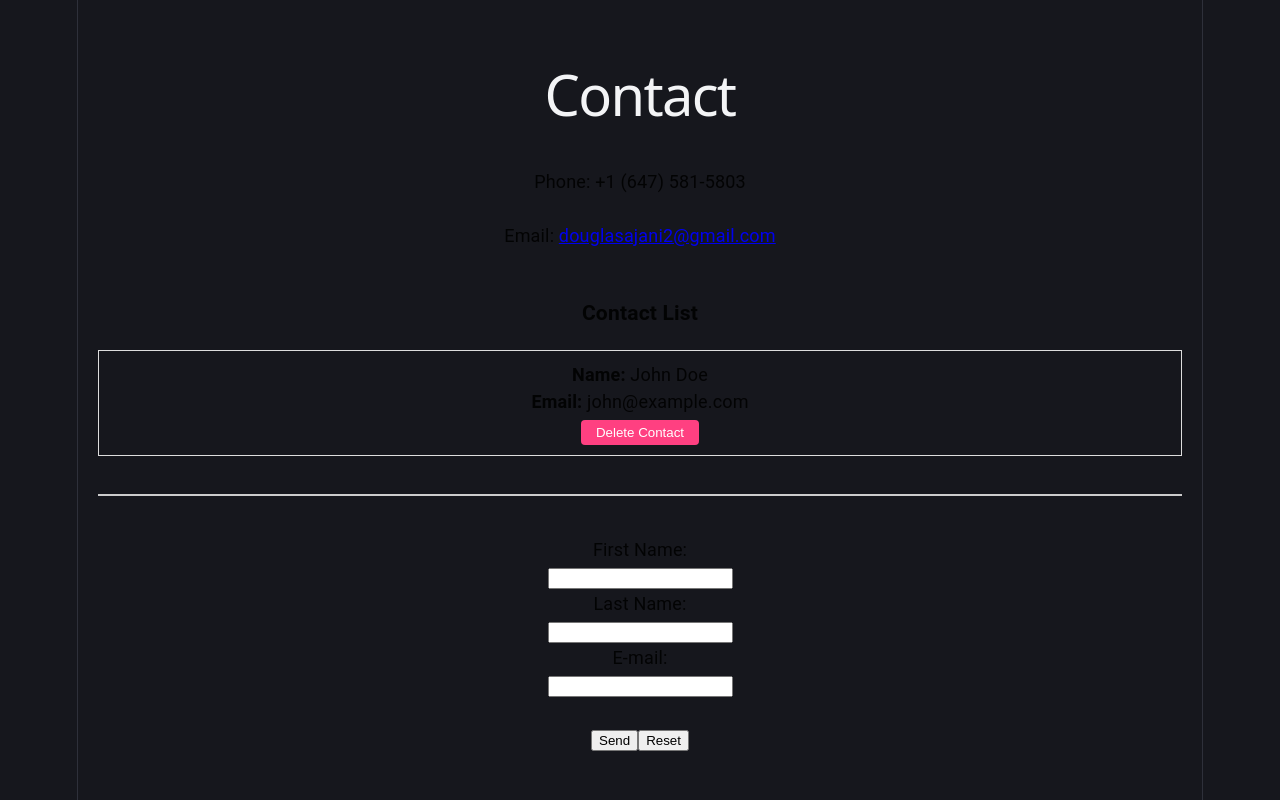
it: Contact Component › performs full CRUD flow for admin user
Expected: the text "John Doe" is shown, [572,364,708,385]
Expected: the text "john@example.com" is shown, [587,391,749,412]
Type "Jane" into the 1st field at (640, 578), box [548,568,732,589]
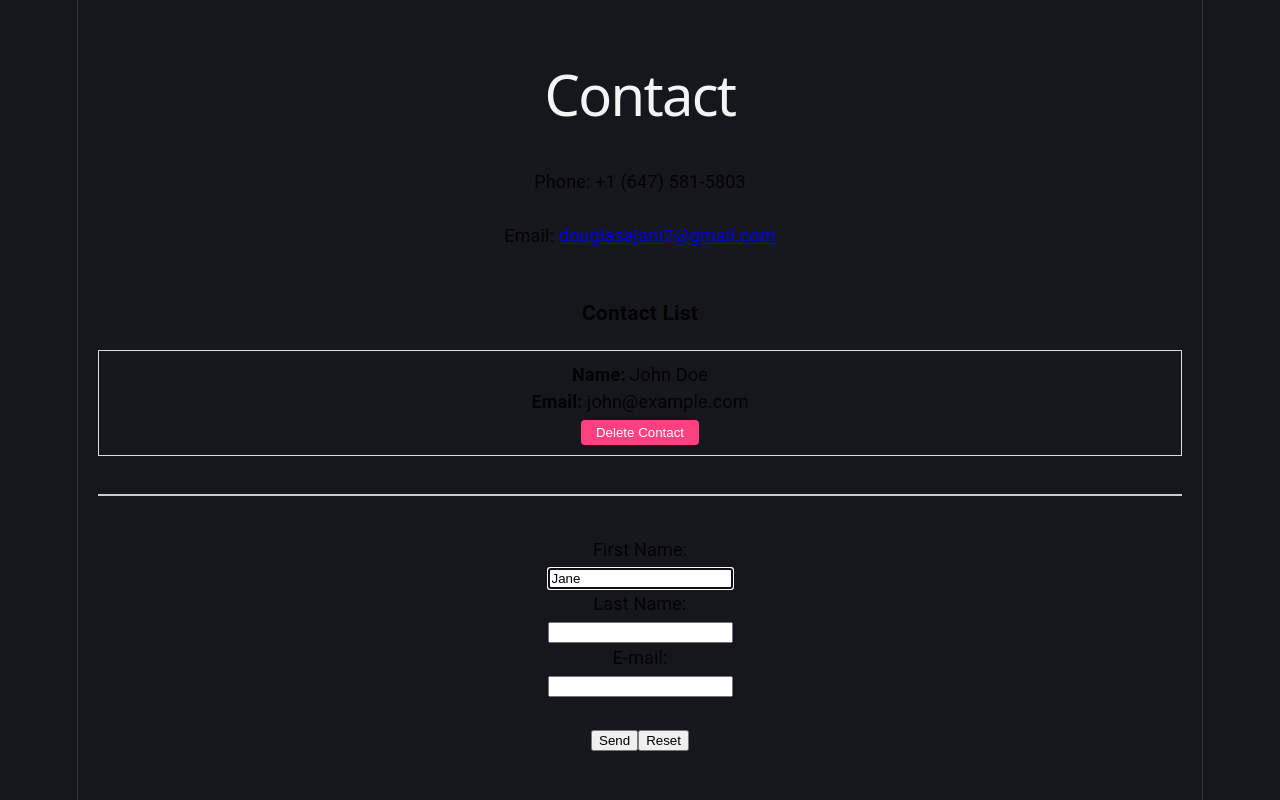
Type "Smith" into the 2nd field at (640, 632), box [548,622,732,643]
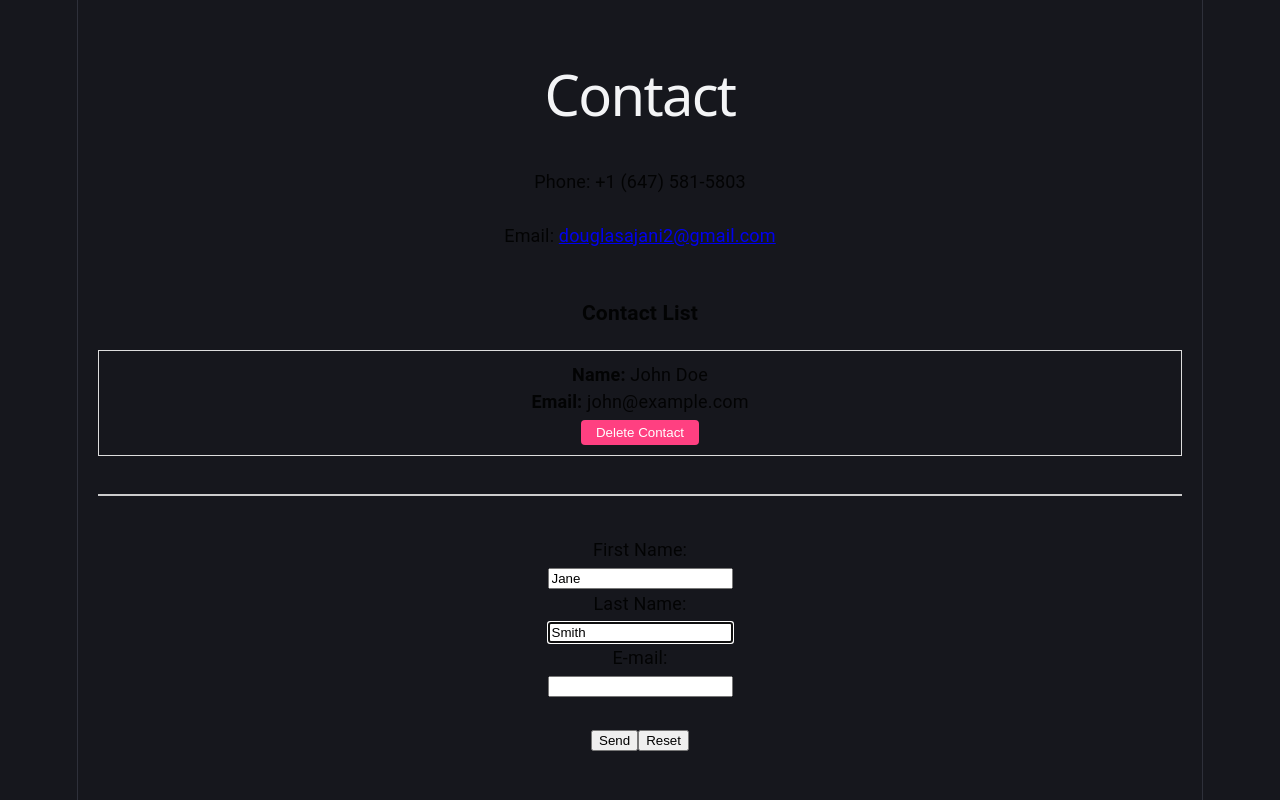
Type "jane@example.com" into the 3rd field at (640, 686), box [548,676,732,697]
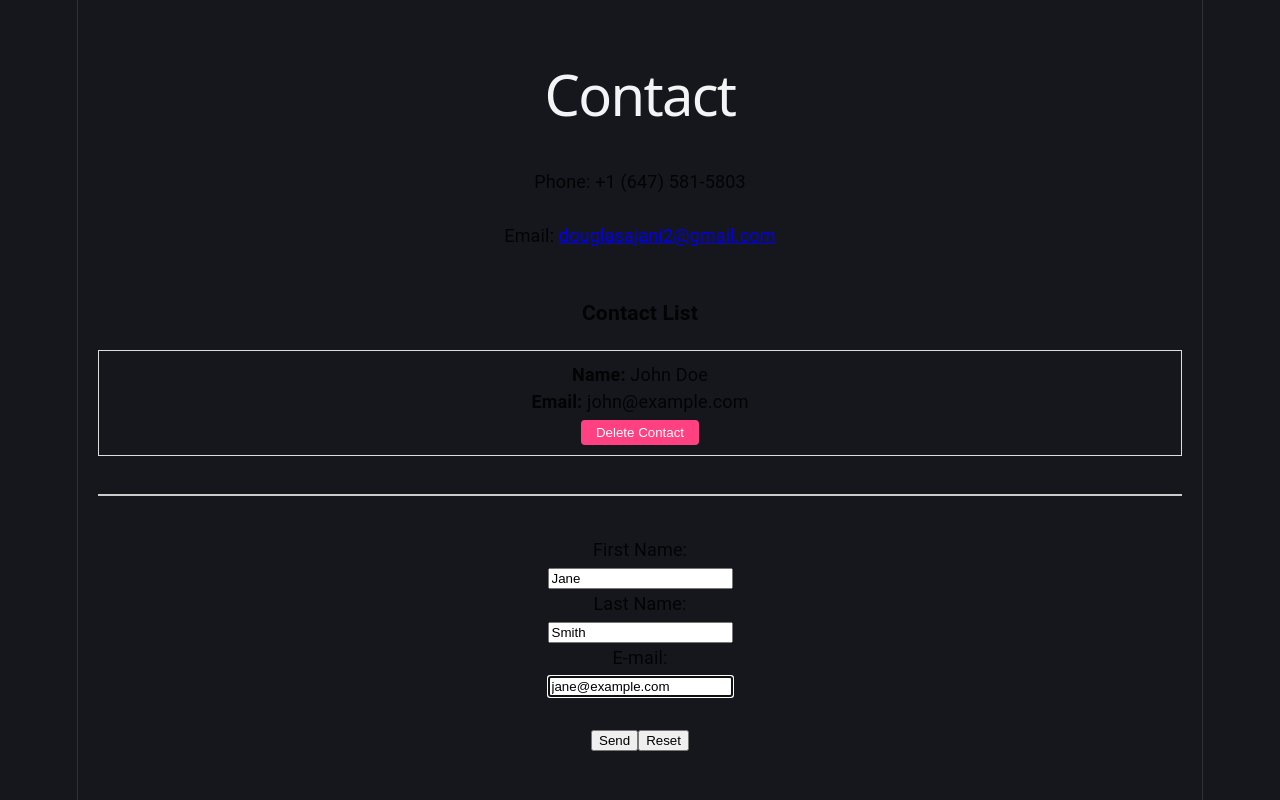
Click the button "Send" at (615, 740), box [591,730,638,751]
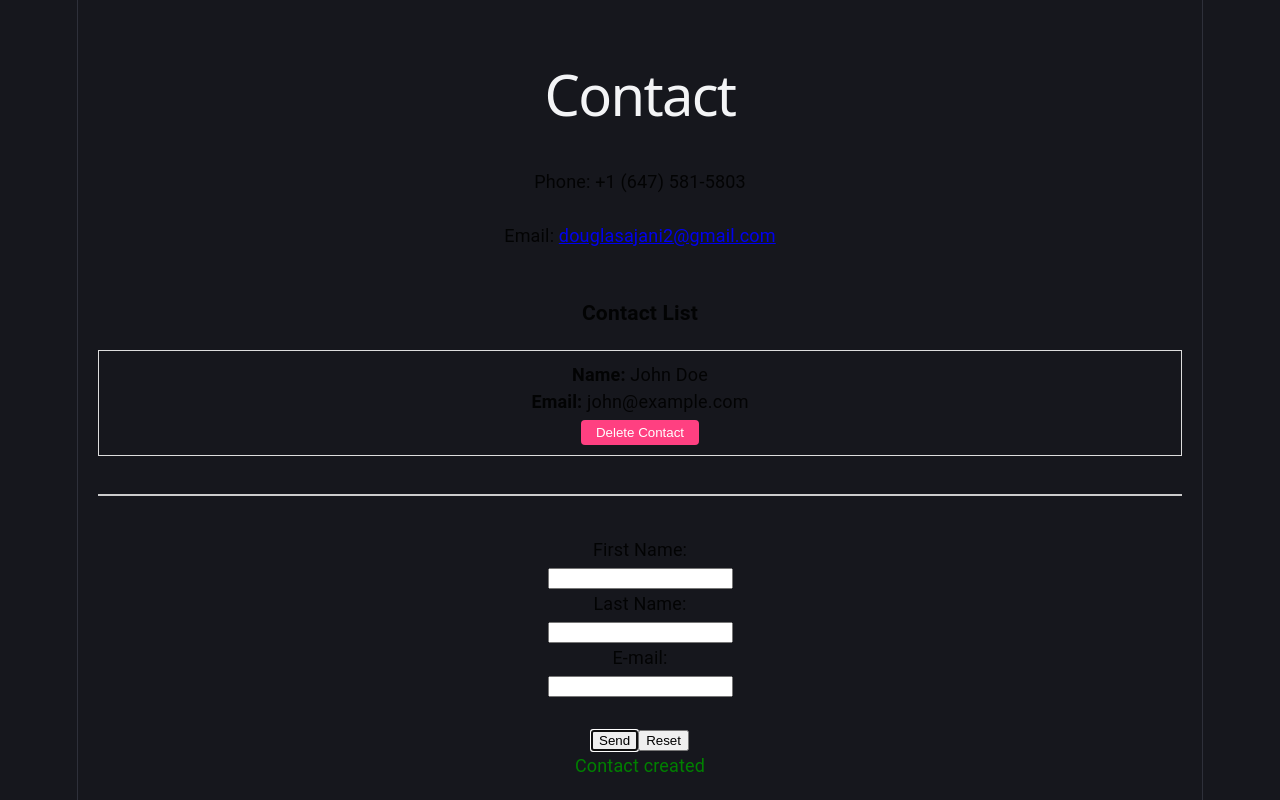
Result: the text "Contact created" is shown at [575,755,705,776]
Click the button "Delete Contact" at (640, 432), box [581,420,699,445]
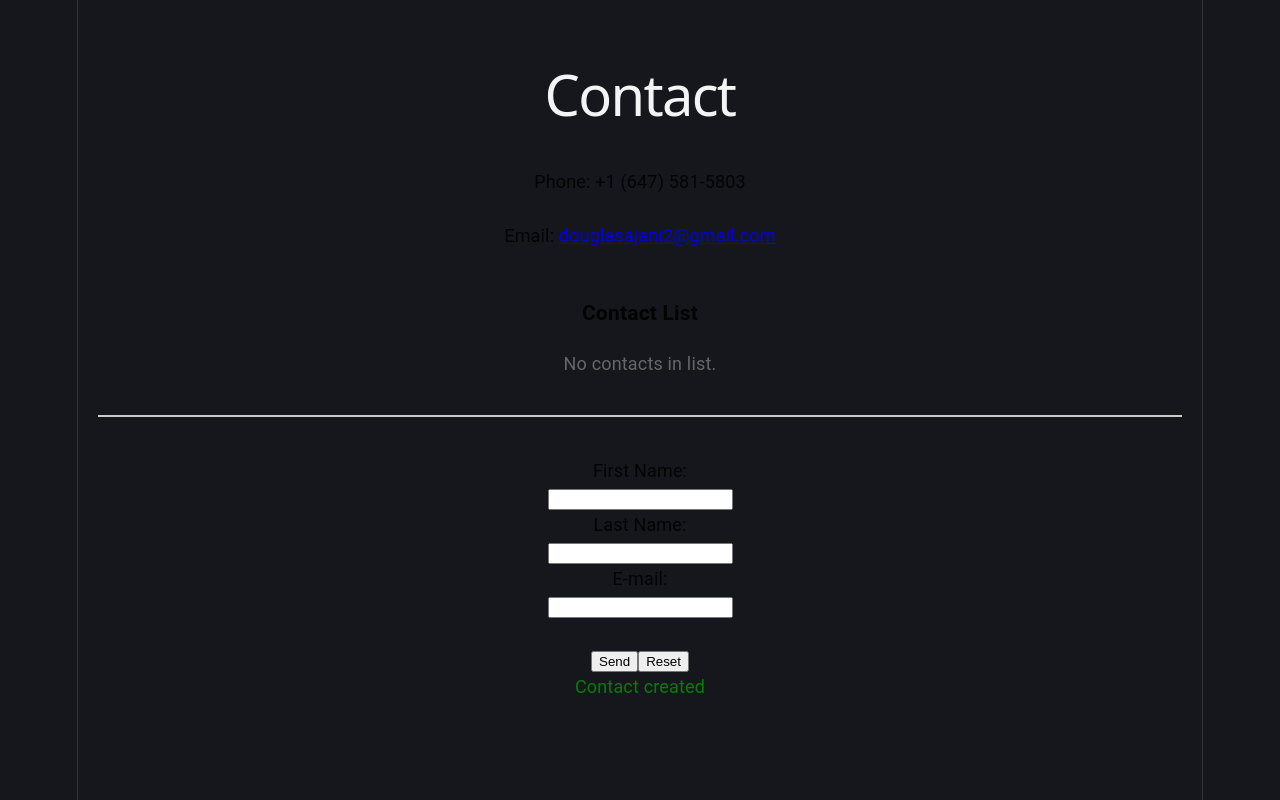
Result: the text "John Doe" is gone
